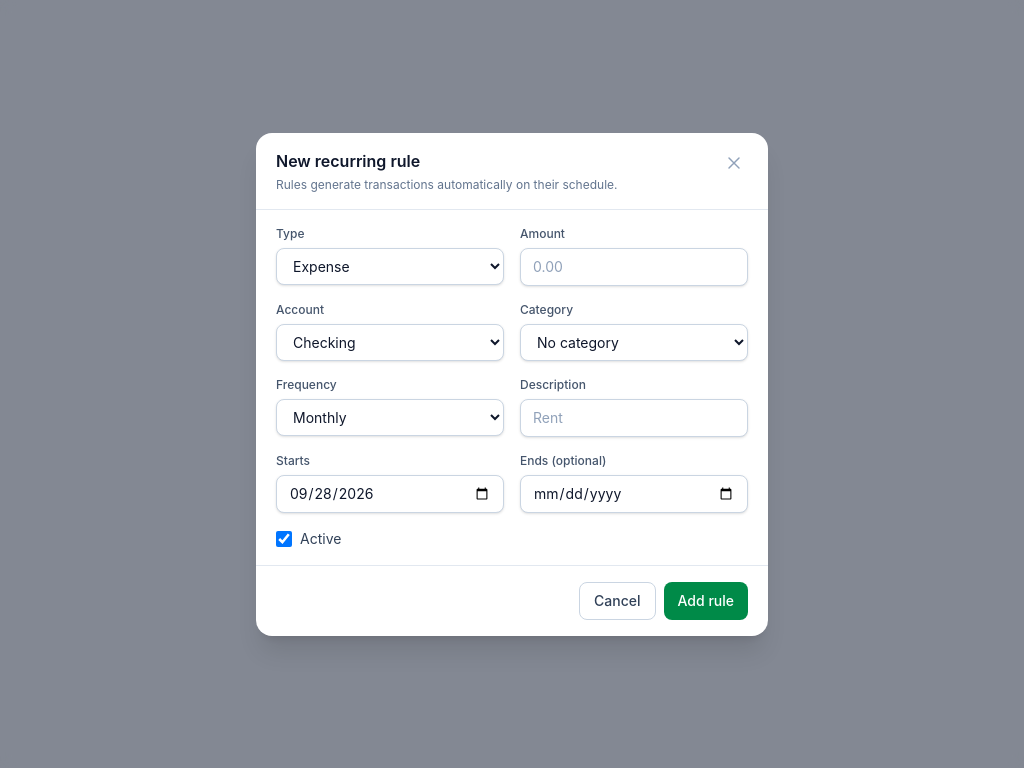
RecurringForm › rejects an end date before the start date
Type "50" into the number field labelled "Amount" at (634, 266), box [520,248,748,286]
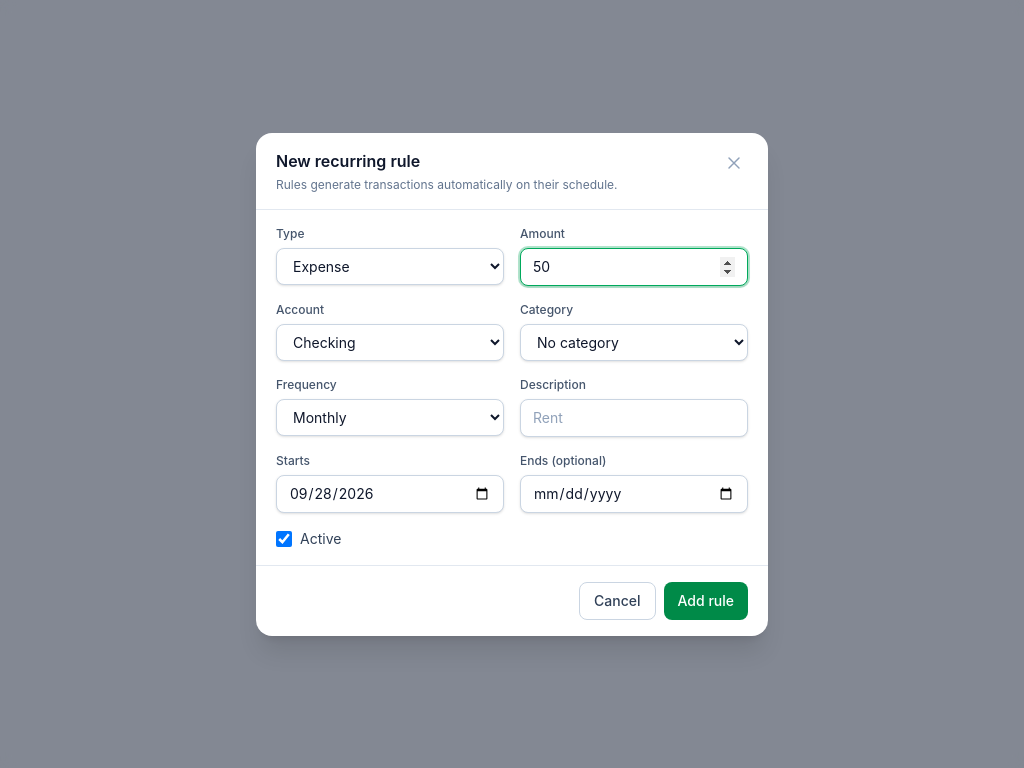
Type "Gym" into the field labelled "Description" at (634, 418), box [520,398,748,436]
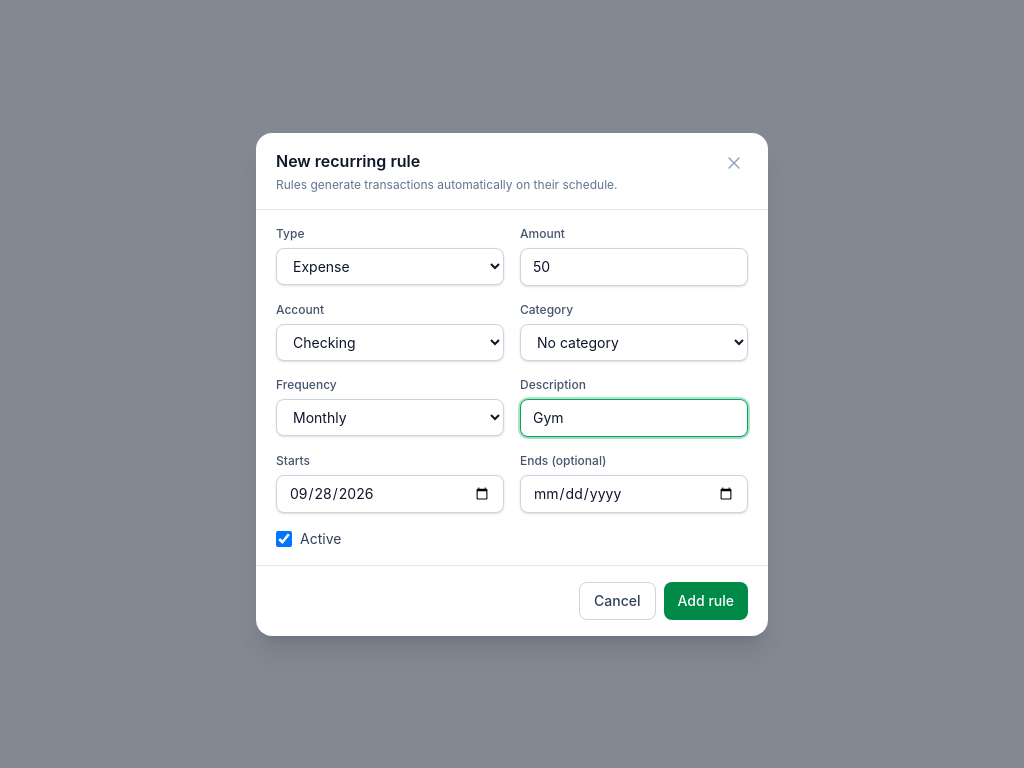
Type "2026-06-01" into the date field labelled "Starts" at (390, 494), box [276,474,504,512]
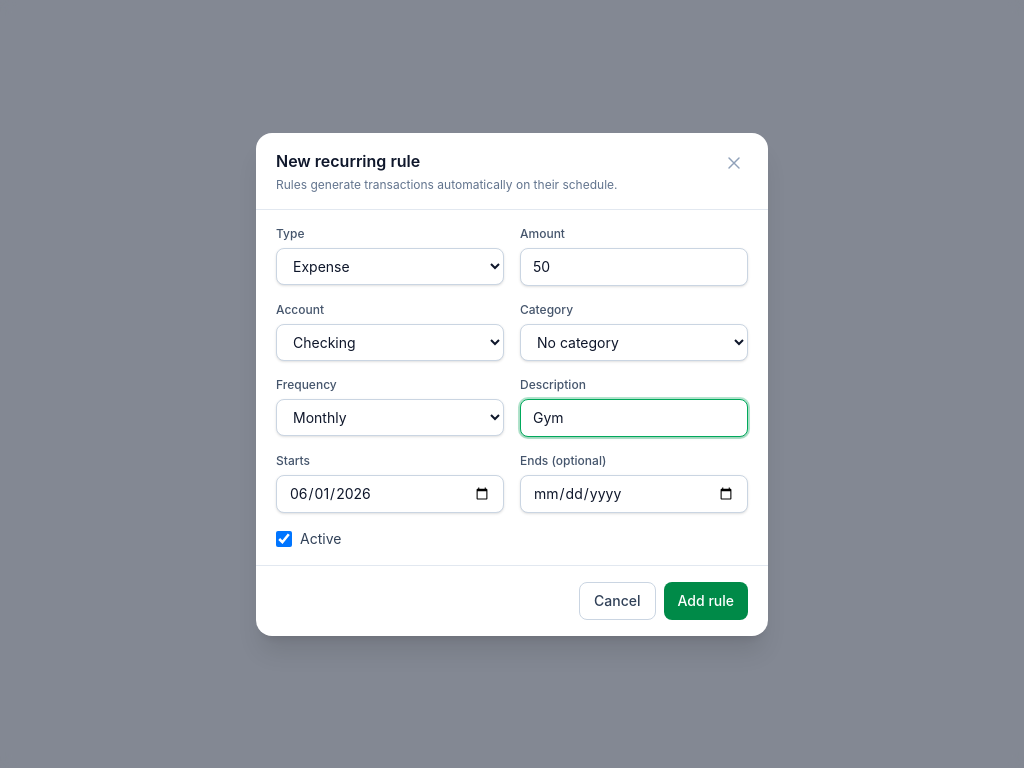
Type "2026-01-01" into the date field labelled "Ends (optional)" at (634, 494), box [520,474,748,512]
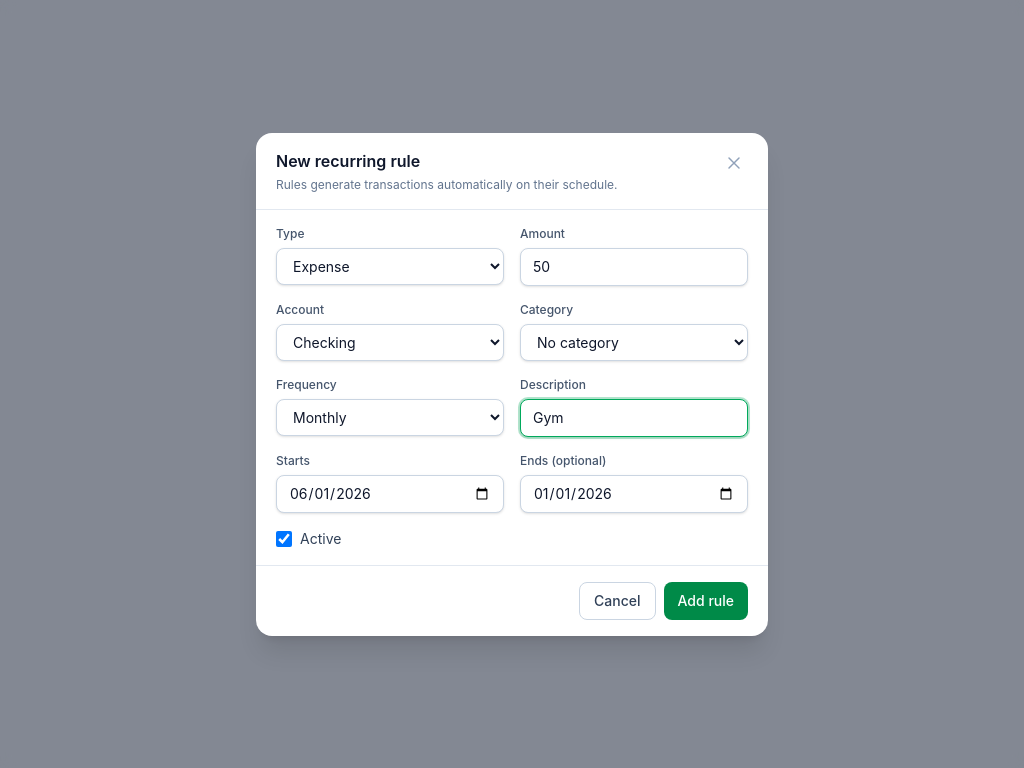
Click the button "Add rule" at (706, 600), box [664,582,748,620]
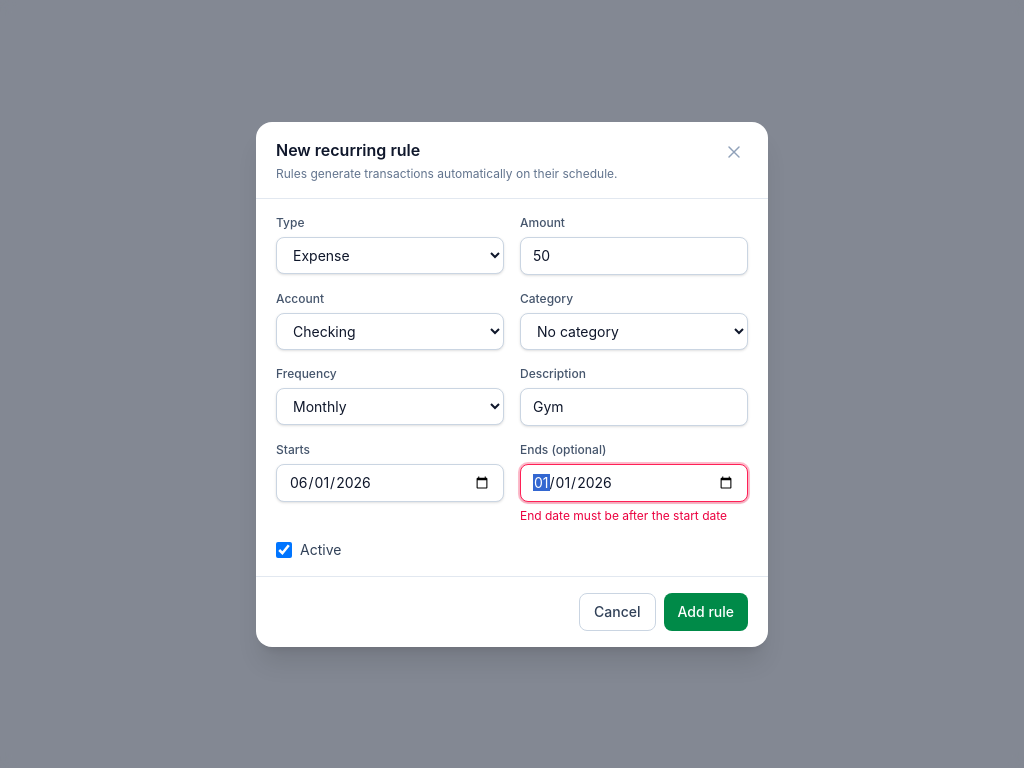
Result: the text "End date must be after the start date" is shown at [520,508,748,524]
